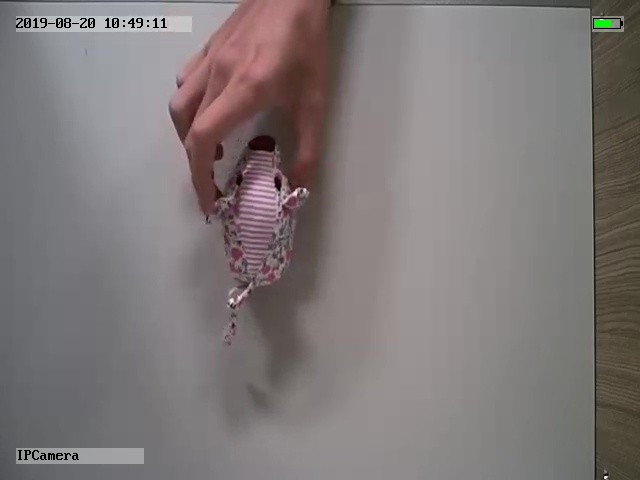pig: (207, 133, 311, 353)
